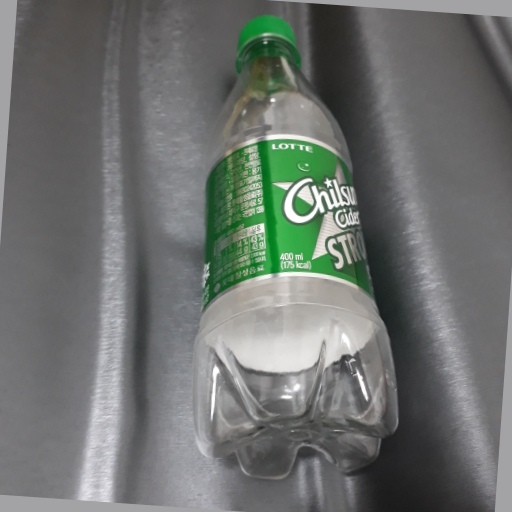Plastic_0: (193, 14, 397, 479)
